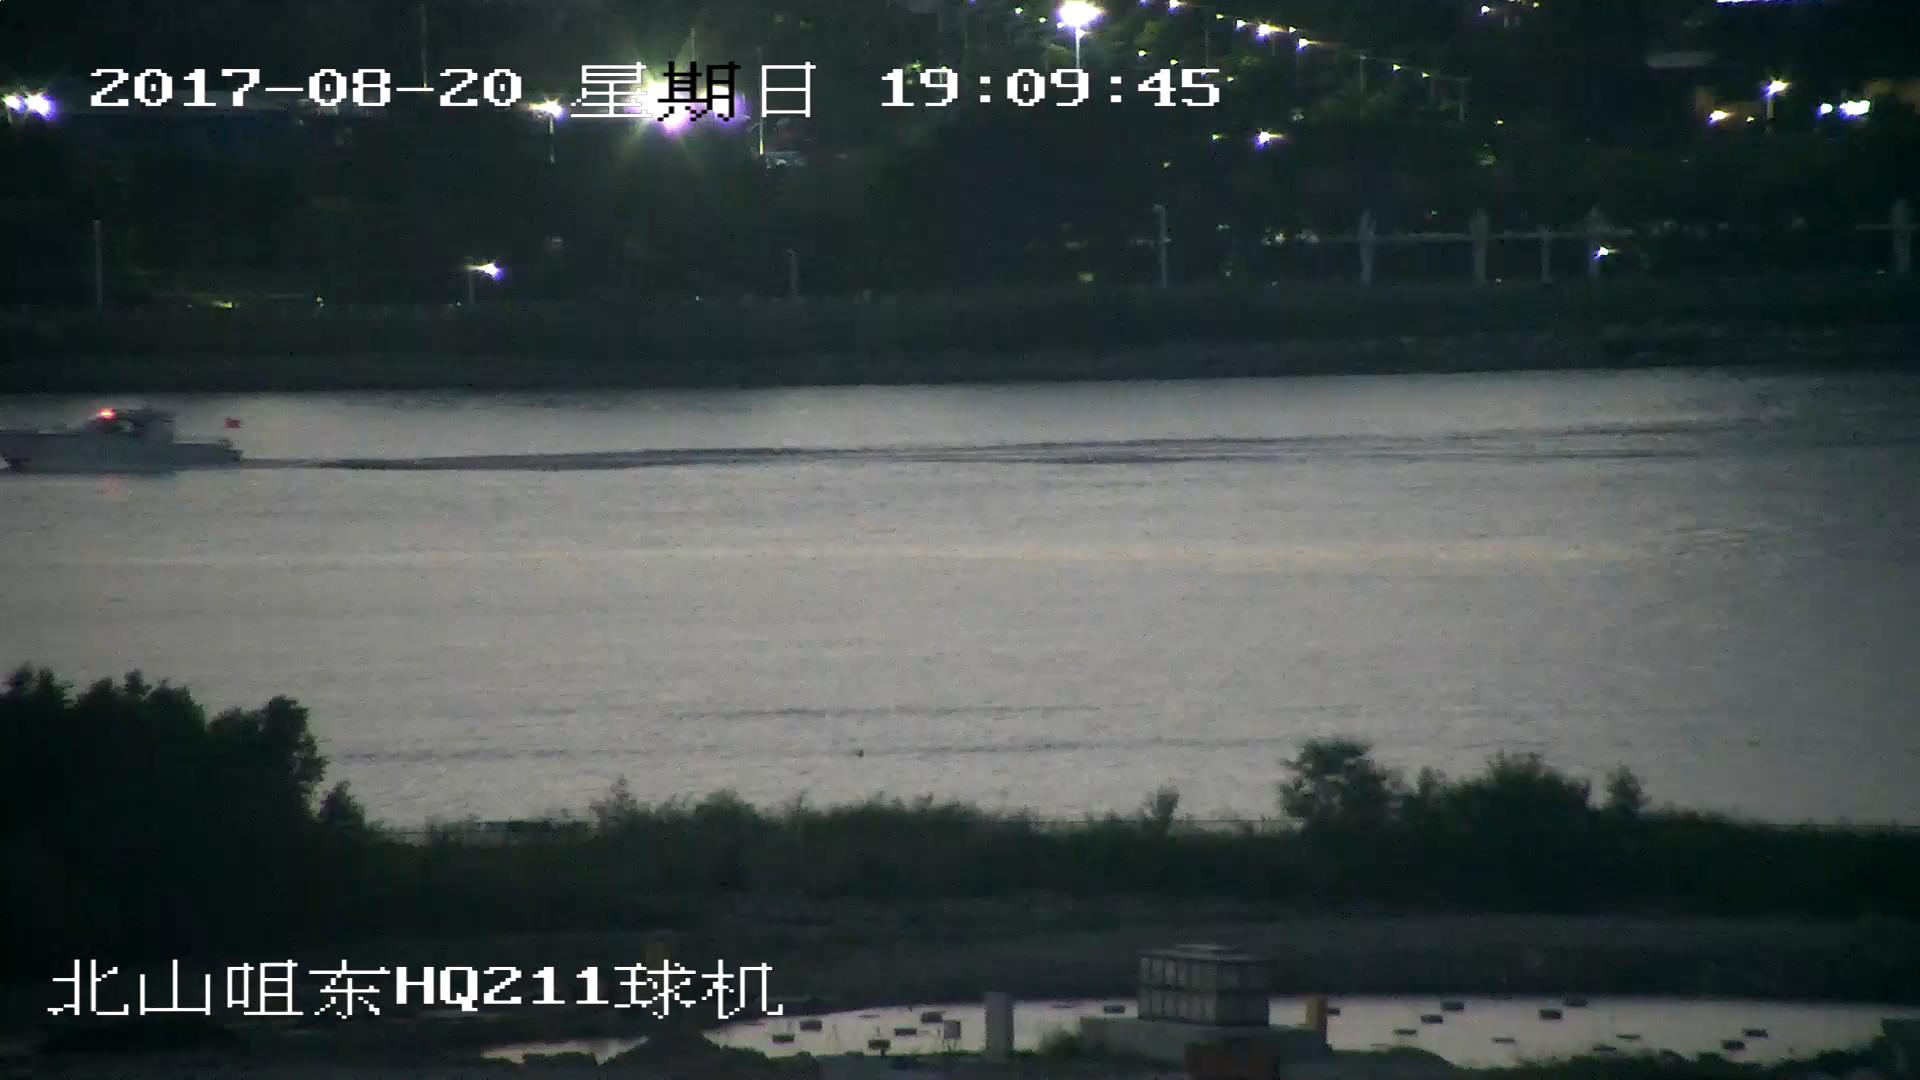passenger ship: (1, 406, 247, 473)
